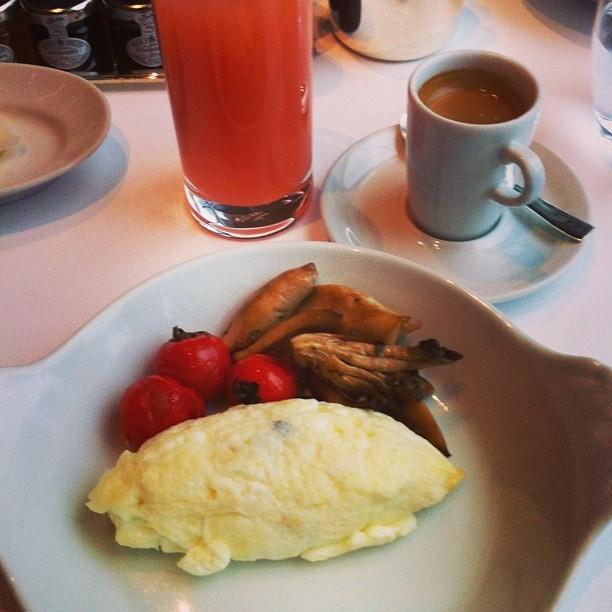tomato: (118, 374, 206, 451), (154, 326, 232, 402), (226, 354, 298, 406)
